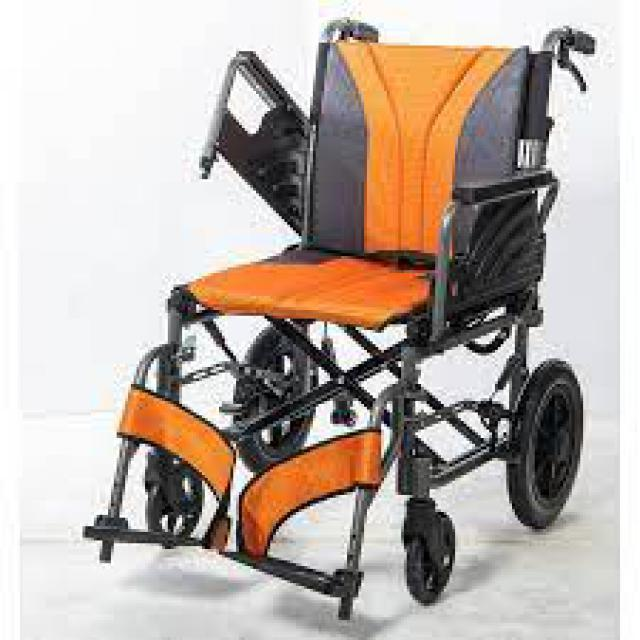wheelchairs: (89, 20, 586, 611)
